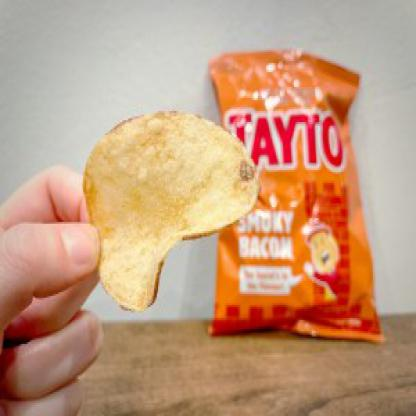potatochip: (202, 45, 388, 347)
